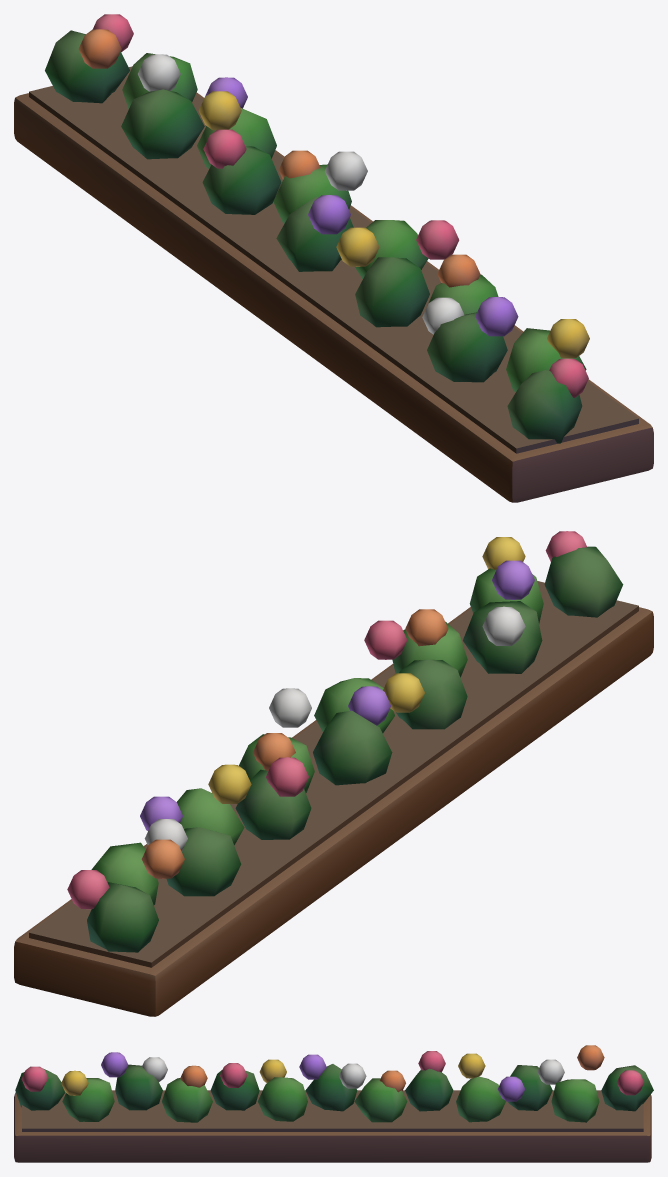
Rendered from FlowerBed.fbx.
3 renders of one model, top to bottom at view 1: azimuth 30°, elevation 25°; view 2: azimuth 150°, elevation 25°; view 3: azimuth 270°, elevation 25°, orthographic. The views are drawn at different scales.
Visible parts, largest first — view 1: SM_Yard_FlowerBed; view 2: SM_Yard_FlowerBed; view 3: SM_Yard_FlowerBed.
Part boxes in pixels (x1=…): SM_Yard_FlowerBed: x1=14, y1=14, x2=653, y2=502; SM_Yard_FlowerBed: x1=14, y1=531, x2=653, y2=1016; SM_Yard_FlowerBed: x1=14, y1=1045, x2=653, y2=1162.
Size of the model in its own units: 2 by 1.8 by 12.04.
